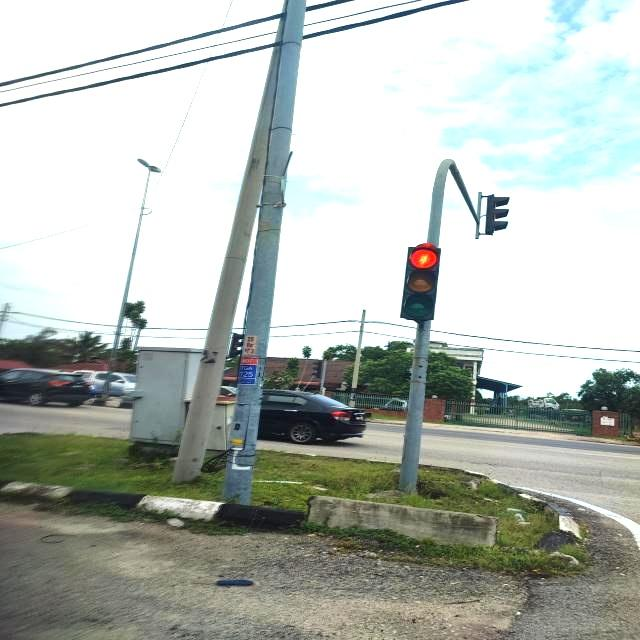Red: (399, 243, 442, 320)
